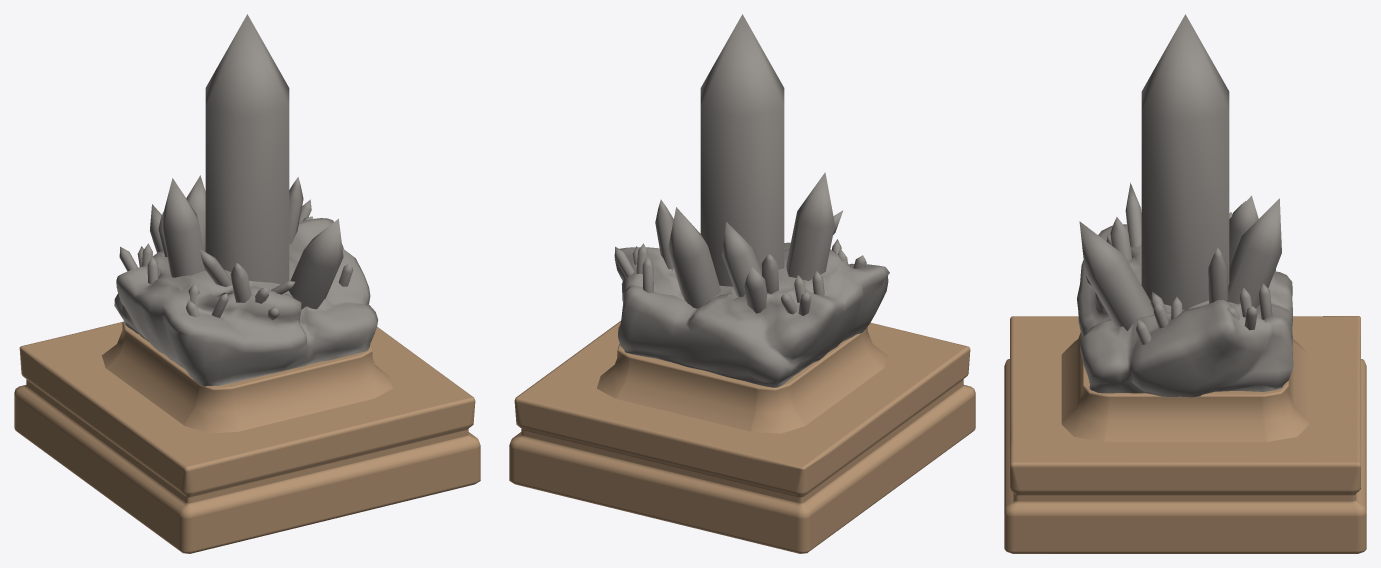
File: Crystal_Energy_Litle_2.fbx
The picture shows the model from 3 angles, left to right: view 1: azimuth 30°, elevation 25°; view 2: azimuth 150°, elevation 25°; view 3: azimuth 270°, elevation 25°; orthographic projection. The views are drawn at different scales.
Visible parts, largest first — view 1: Crystal_Energy_Litle_2, Crystal_Energy_2, Stone_CrystalEnergy_litle; view 2: Crystal_Energy_Litle_2, Crystal_Energy_2, Stone_CrystalEnergy_litle; view 3: Crystal_Energy_Litle_2, Crystal_Energy_2, Stone_CrystalEnergy_litle.
Part boxes in pixels (bbox=[...]): Crystal_Energy_Litle_2: bbox=[14, 321, 480, 553]; Crystal_Energy_2: bbox=[119, 14, 353, 320]; Stone_CrystalEnergy_litle: bbox=[114, 218, 377, 386]; Crystal_Energy_Litle_2: bbox=[509, 321, 975, 553]; Crystal_Energy_2: bbox=[614, 14, 866, 315]; Stone_CrystalEnergy_litle: bbox=[614, 242, 889, 387]; Crystal_Energy_Litle_2: bbox=[1004, 316, 1366, 553]; Crystal_Energy_2: bbox=[1079, 14, 1281, 344]; Stone_CrystalEnergy_litle: bbox=[1077, 224, 1293, 397].
Size of the model in its own units: 0.7 by 0.9913 by 0.7002.
